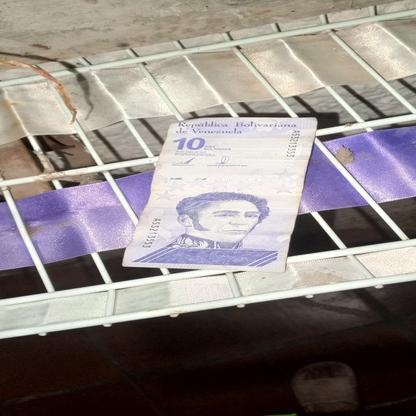vef_front: (122, 116, 318, 272)
